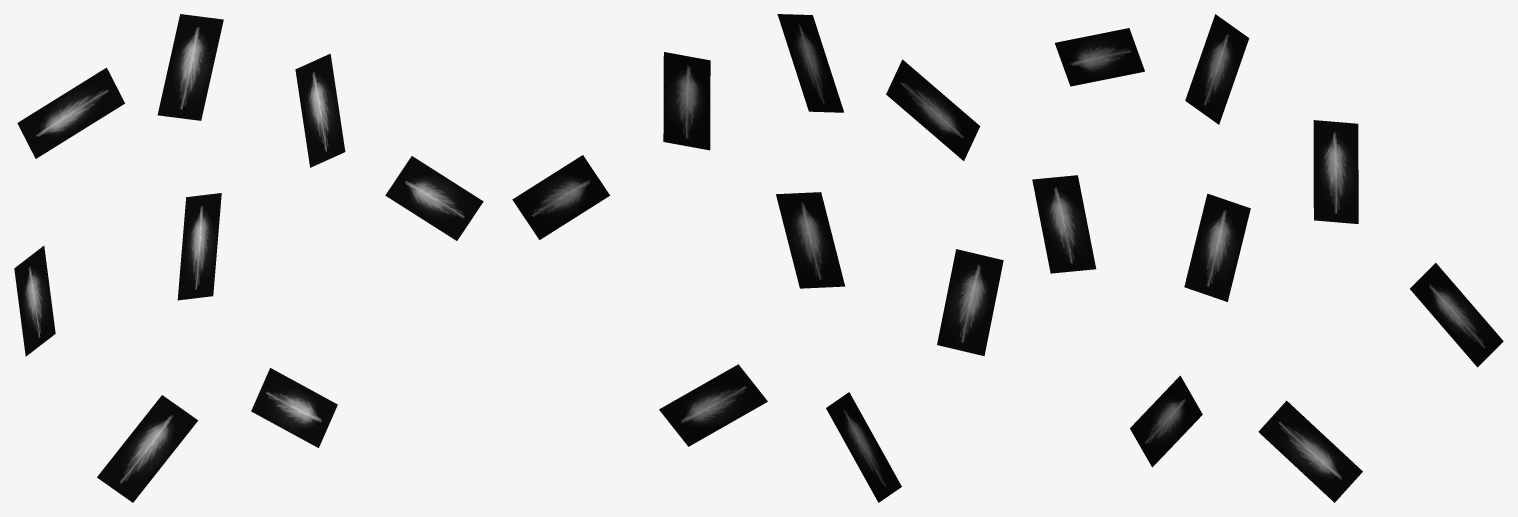
3 renders of one model, left to right at view 1: azimuth 30°, elevation 25°; view 2: azimuth 150°, elevation 25°; view 3: azimuth 330°, elevation 25°, orthographic. The views are drawn at different scales.
Parts seen in each view (by area): view 1: model_Object34; view 2: model_Object34; view 3: model_Object34.
Part boxes in pixels (box(x1,y1,x2,y2)): model_Object34: box(14, 14, 483, 502); model_Object34: box(512, 14, 1003, 502); model_Object34: box(1032, 14, 1503, 502).
Size of the model in its own units: 1.69 by 1.59 by 0.1052.
Materials: 1 (1 with a texture image).
